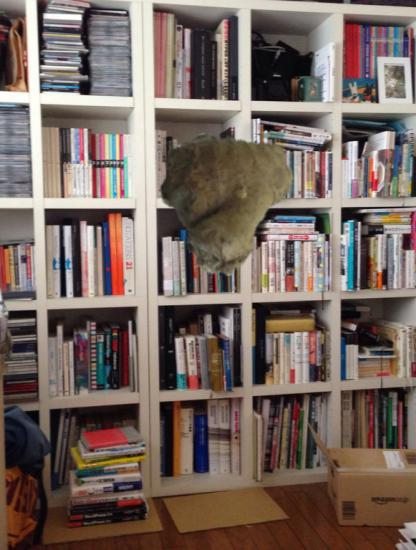Ginger: (158, 129, 304, 275)
